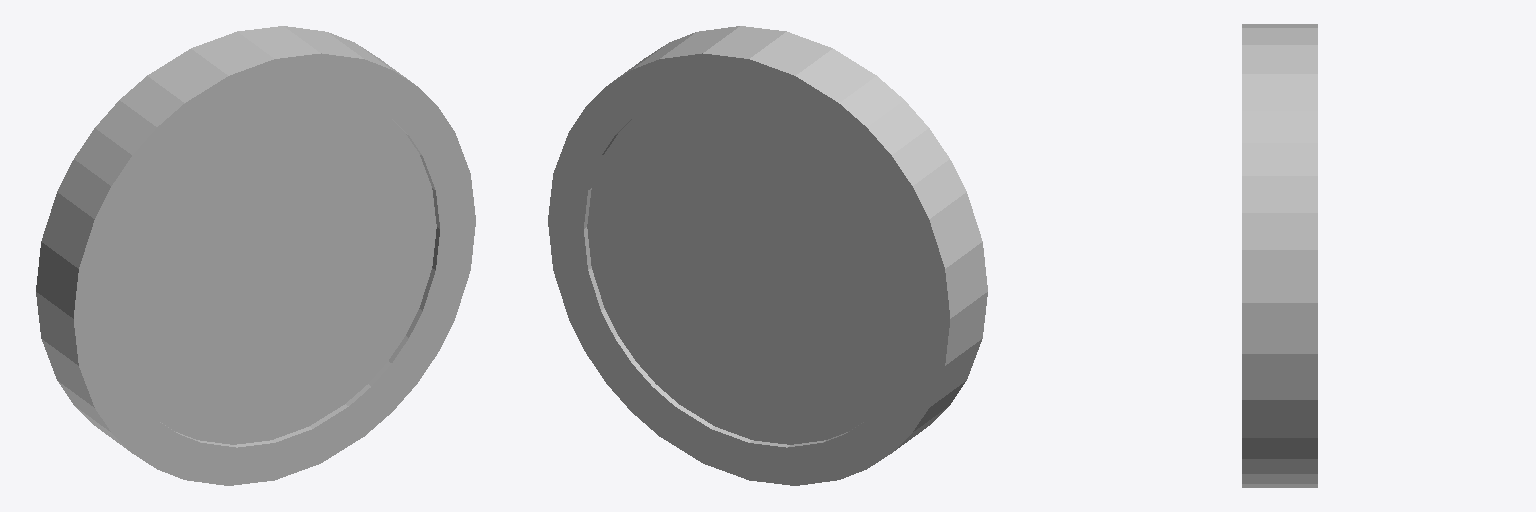
Rendered from coin.obj.
3 views of the same model, side by side, from view 1: azimuth 30°, elevation 25°; view 2: azimuth 150°, elevation 25°; view 3: azimuth 270°, elevation 25° (orthographic).
Parts seen in each view (by area): view 1: Coin; view 2: Coin; view 3: Coin.
Part boxes in pixels (left/top/right/bottom): Coin: left=36, top=26, right=475, bottom=485; Coin: left=548, top=26, right=987, bottom=485; Coin: left=1242, top=24, right=1317, bottom=487.
Bounding box in the file's own units: 2.76 × 2.76 × 0.447.